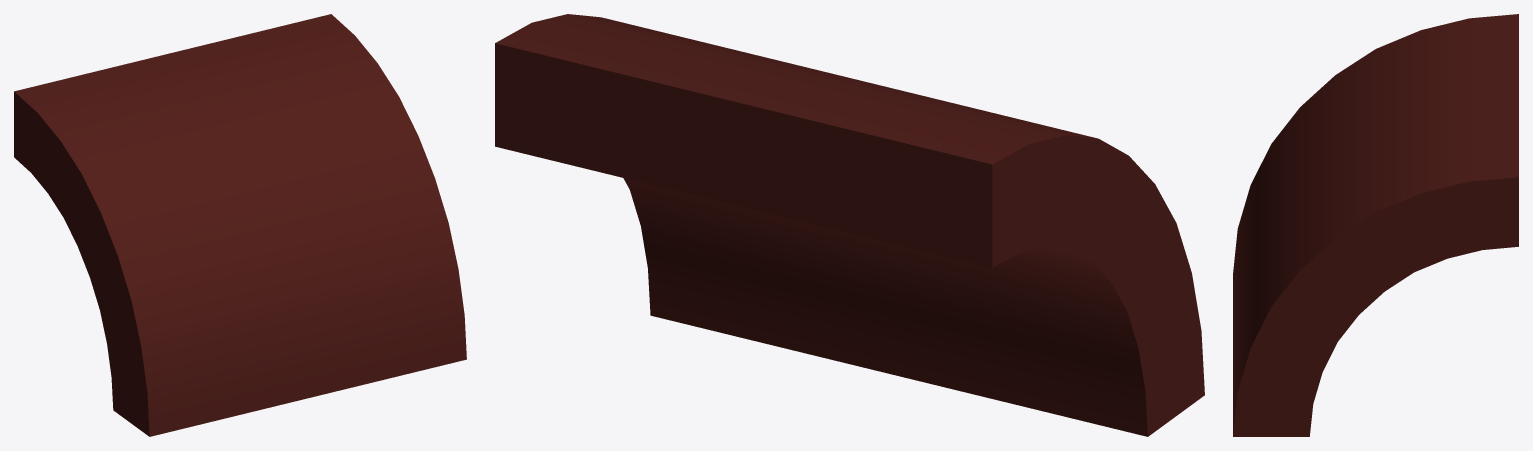
Rendered from vox_road_upbendmedium.fbx.
The picture shows the model from 3 angles, left to right: view 1: azimuth 30°, elevation 25°; view 2: azimuth 150°, elevation 25°; view 3: azimuth 270°, elevation 25°; orthographic projection. The views are drawn at different scales.
Parts seen in each view (by area): view 1: vox_road_upbendmedium; view 2: vox_road_upbendmedium; view 3: vox_road_upbendmedium.
Part boxes in pixels (x1,y1,x2,y2): vox_road_upbendmedium: (14, 14, 466, 436); vox_road_upbendmedium: (495, 14, 1204, 436); vox_road_upbendmedium: (1233, 14, 1518, 436).
Bounding box in the file's own units: 64 × 47.48 × 47.37.
